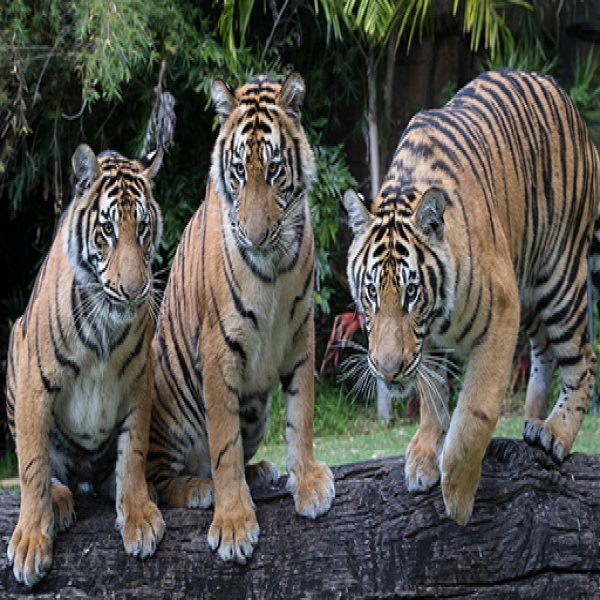Tiger: (341, 64, 600, 529), (147, 75, 339, 570), (5, 143, 176, 592)
